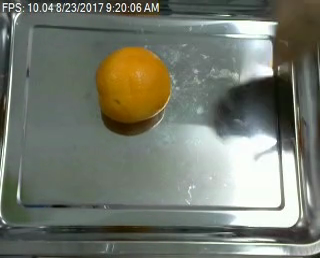Orange: (96, 46, 171, 123)
